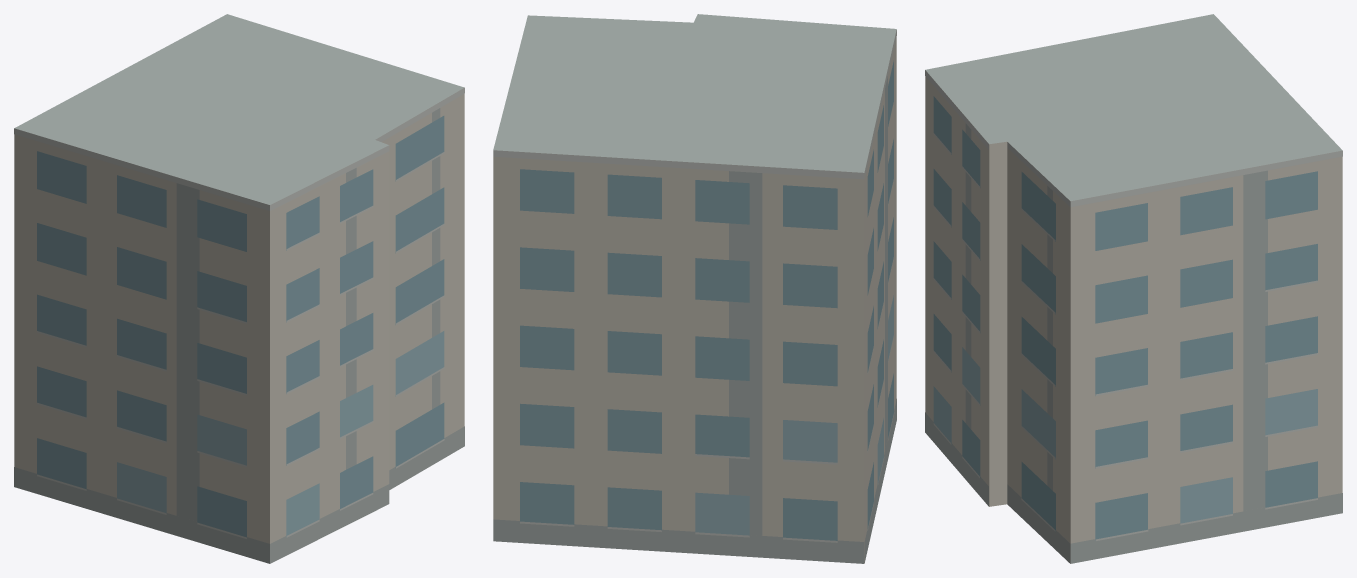
File: survey-upis-32862777.glb
The picture shows the model from 3 angles, left to right: view 1: azimuth 30°, elevation 25°; view 2: azimuth 150°, elevation 25°; view 3: azimuth 270°, elevation 25°; orthographic projection. The views are drawn at different scales.
Visible parts, largest first — view 1: survey-upis-32862777.tmp; view 2: survey-upis-32862777.tmp; view 3: survey-upis-32862777.tmp.
Boxes of the visible parts, x1,y1,x2,y2 form: survey-upis-32862777.tmp: (14, 14, 464, 563); survey-upis-32862777.tmp: (493, 14, 896, 563); survey-upis-32862777.tmp: (925, 14, 1342, 563).
Bounding box in the file's own units: 16.24 × 14.65 × 15.3.
